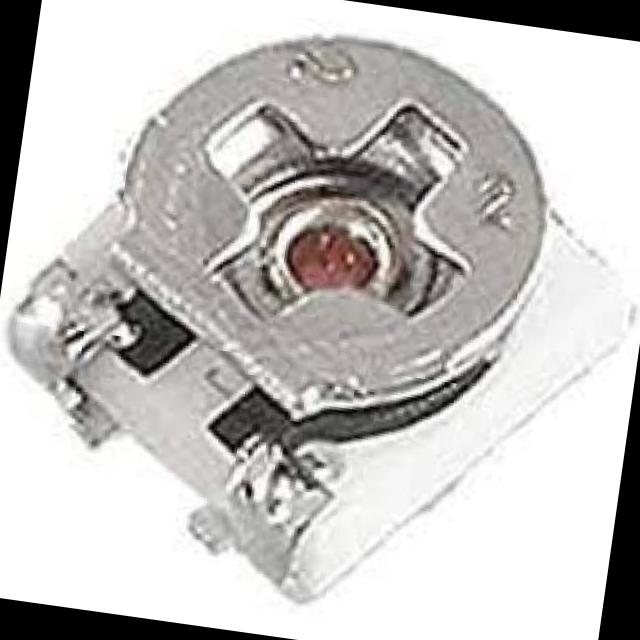potentiometer: (24, 0, 581, 489)
